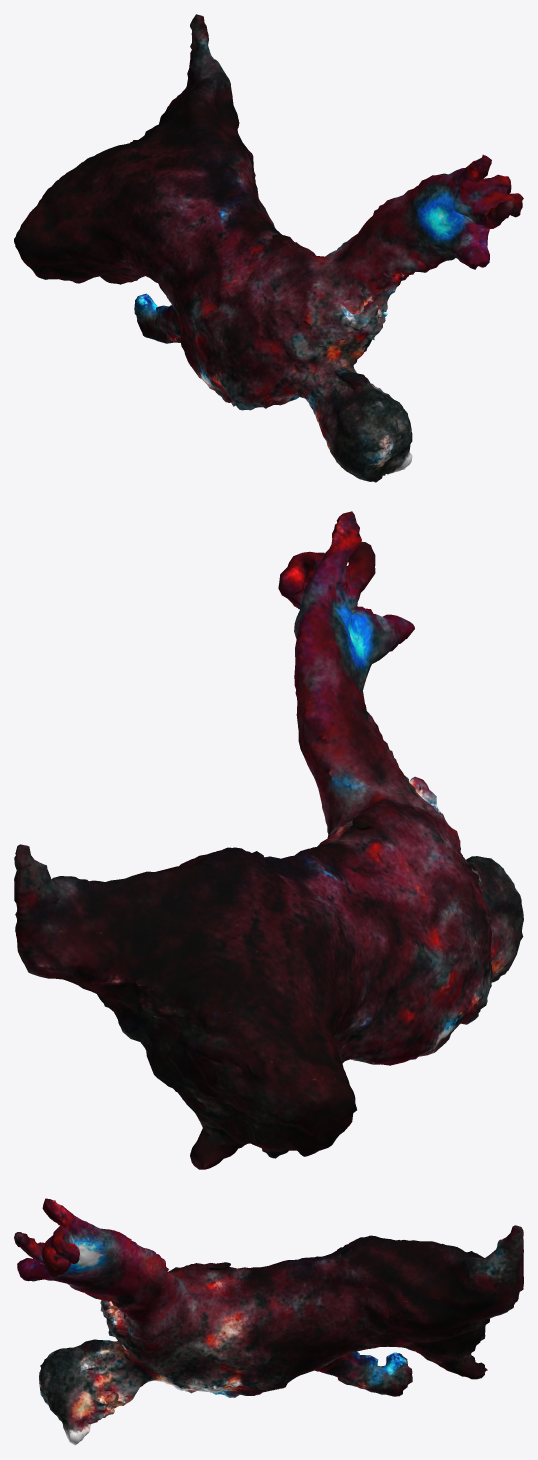
File: avenger_after.gltf
The picture shows the model from 3 angles, top to bottom: view 1: azimuth 30°, elevation 25°; view 2: azimuth 150°, elevation 25°; view 3: azimuth 270°, elevation 25°; orthographic projection. The views are drawn at different scales.
Visible parts, largest first — view 1: pose2; view 2: pose2; view 3: pose2.
Part boxes in pixels (box(x1,y1,x2,y2)): pose2: box(14, 14, 523, 482); pose2: box(14, 511, 523, 1169); pose2: box(14, 1198, 523, 1445).
Bounding box in the file's own units: 0.6086 × 0.6472 × 1.07.
1 material, 1 textured.
